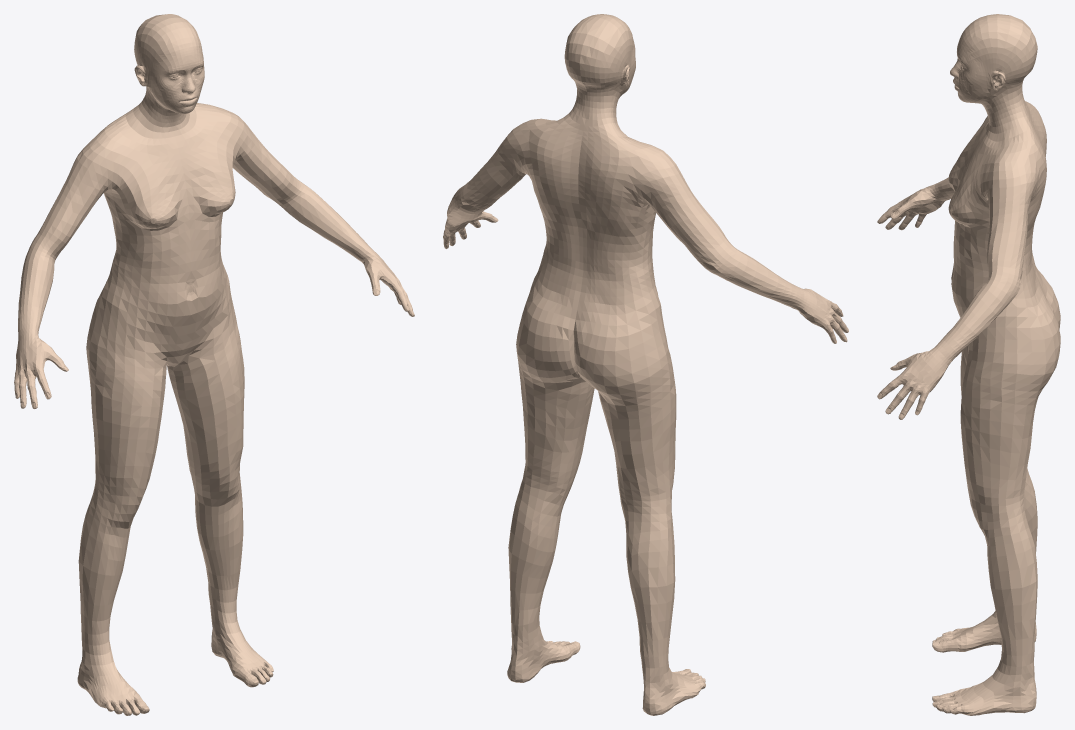
Rendered from female-adult-heavy-medium.glb.
3 views of the same model, side by side, from view 1: azimuth 30°, elevation 25°; view 2: azimuth 150°, elevation 25°; view 3: azimuth 270°, elevation 25° (orthographic).
Visible parts, largest first — view 1: world; view 2: world; view 3: world.
Part boxes in pixels (<box>): world: <box>14,14,414,715</box>; world: <box>443,14,848,715</box>; world: <box>877,14,1060,715</box>.
Size of the model in its own units: 1.12 by 1.81 by 0.4557.
